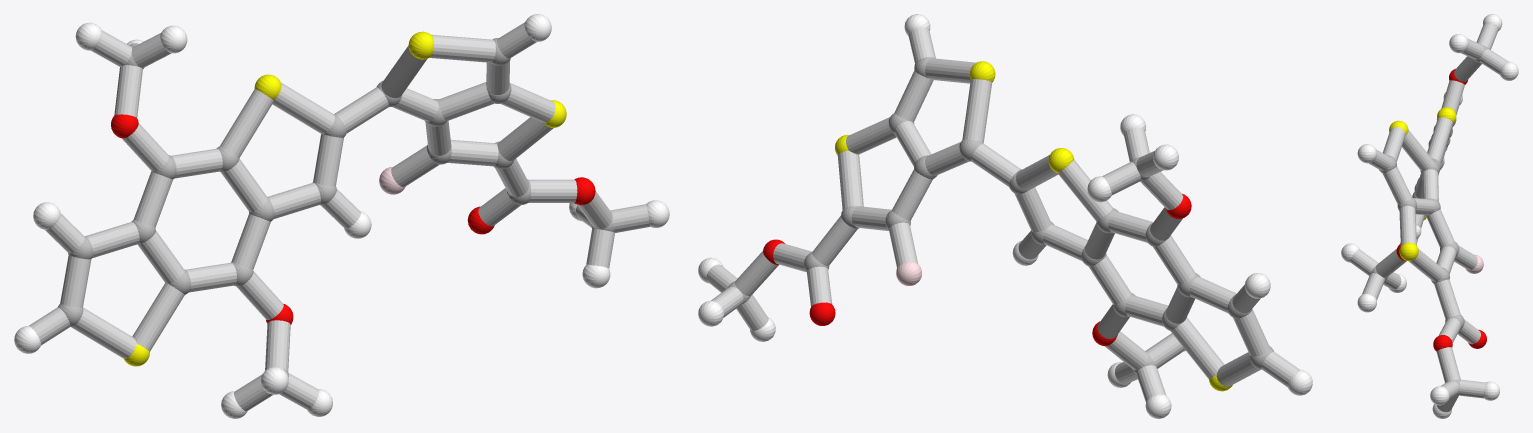
The model's file is color.glb.
3 renders of one model, left to right at view 1: azimuth 30°, elevation 25°; view 2: azimuth 150°, elevation 25°; view 3: azimuth 270°, elevation 25°, orthographic. The views are drawn at different scales.
Parts seen in each view (by area): view 1: grp15205, grp8689, grp1, grp7241, grp13395; view 2: grp15205, grp8689, grp1, grp13395, grp7241; view 3: grp15205, grp8689, grp1, grp7241, grp13395.
Boxes of the visible parts, <box> form: grp15205: <box>29,22,650,411</box>; grp8689: <box>14,14,669,418</box>; grp1: <box>58,38,614,378</box>; grp7241: <box>124,31,566,366</box>; grp13395: <box>111,114,595,324</box>; grp15205: <box>706,28,1299,401</box>; grp8689: <box>698,14,1312,418</box>; grp1: <box>727,57,1273,373</box>; grp13395: <box>763,193,1191,345</box>; grp7241: <box>835,61,1232,391</box>; grp15205: <box>1350,23,1508,412</box>; grp8689: <box>1341,14,1518,418</box>; grp1: <box>1370,44,1488,396</box>; grp7241: <box>1389,107,1456,261</box>; grp13395: <box>1396,68,1486,351</box>.
Bounding box in the file's own units: 16.19 × 8.56 × 5.47.
